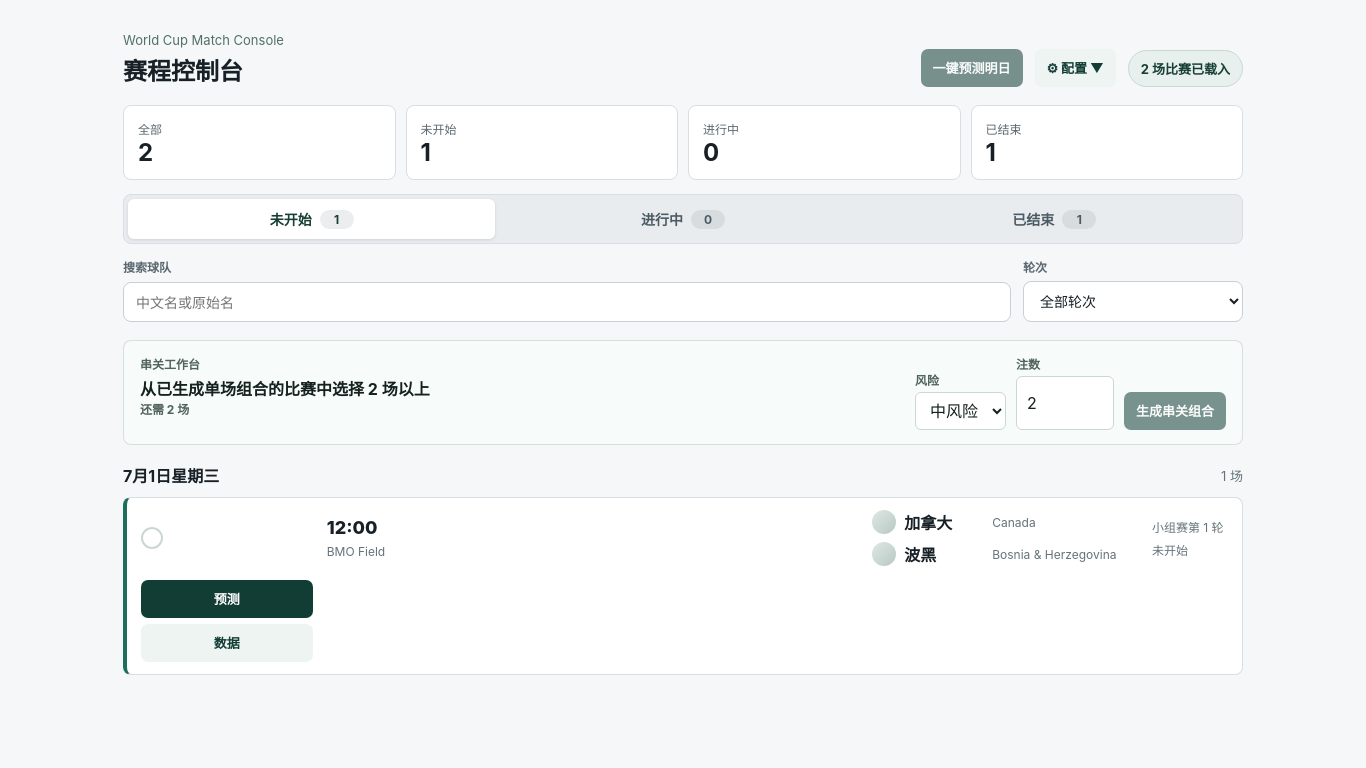
FixturesPage › defaults to scheduled fixtures and can switch to finished fixtures
Expected: the text "串关工作台" is shown, x1=140 y1=357 x2=200 y2=372
Expected: the text "从已生成单场组合的比赛中选择 2 场以上" is shown, x1=140 y1=376 x2=430 y2=400
Click the button "已结束 1" at (1054, 219), box x1=871 y1=199 x2=1238 y2=239
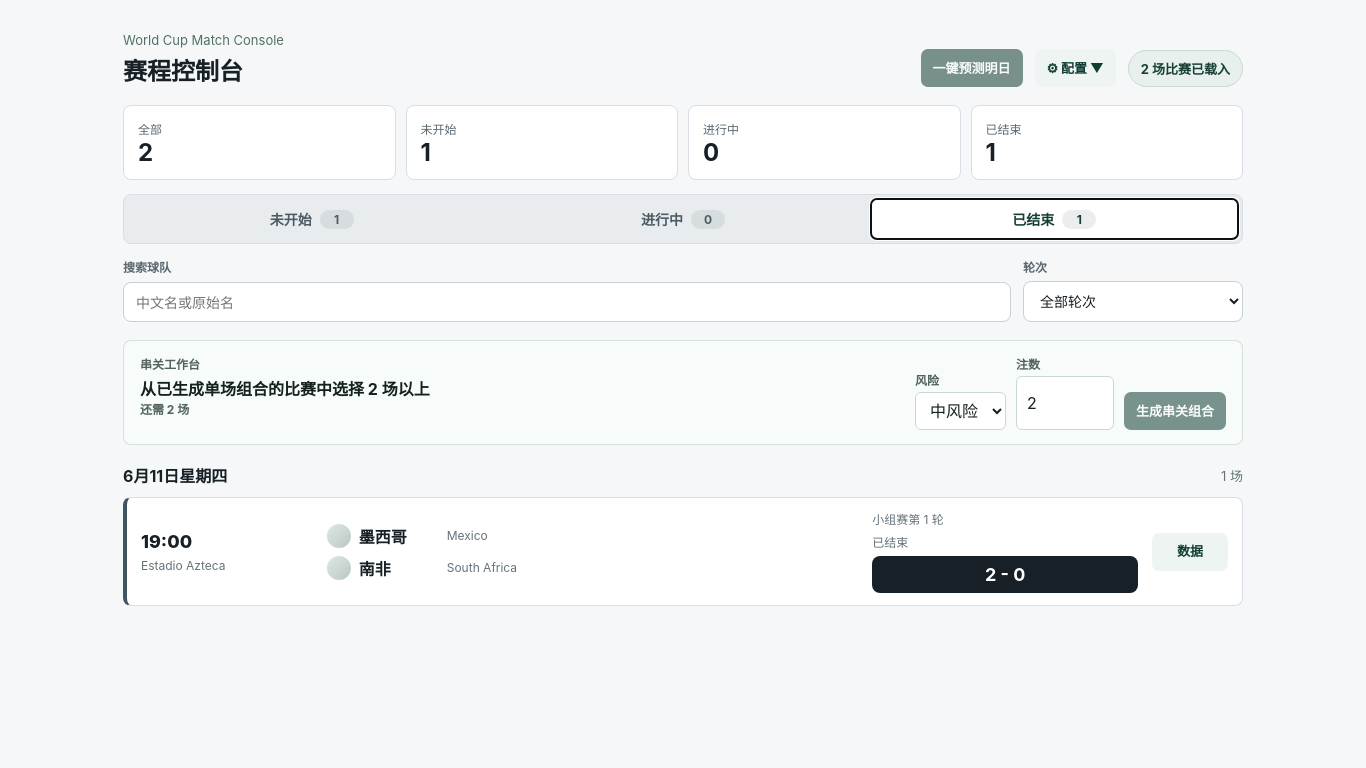
Expected: the text "墨西哥" is shown, x1=359 y1=526 x2=407 y2=546
Expected: the text "2 - 0" is shown, x1=872 y1=556 x2=1138 y2=593
